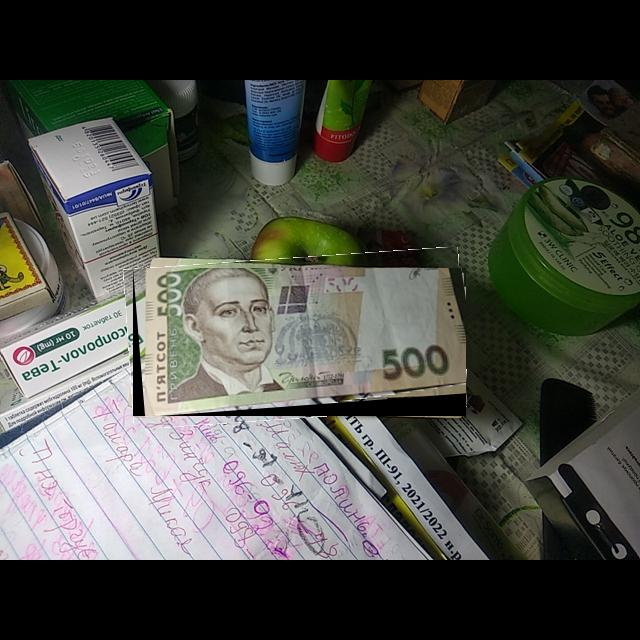500uah: (143, 268, 467, 417)
